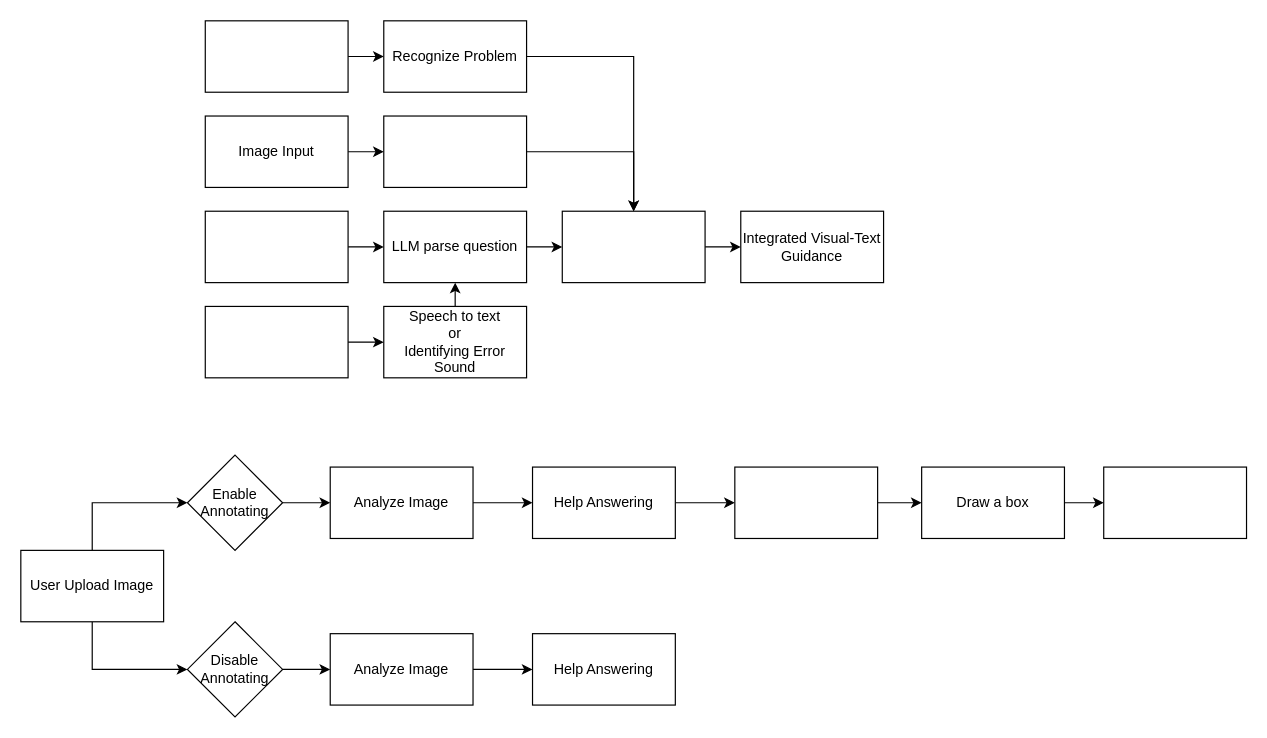
Some shapes in this 1267 by 738 pixel diagram are drawn without their labels. The shapes that lost their labels are listed below. From the top down, each one's box as (x1, y1, x2, y2) in pixels, then its label:
(204, 20, 348, 92): Video I nput
(383, 115, 527, 187): Visual Product Identification
(204, 210, 348, 283): Text Input
(561, 210, 705, 283): RAG find solution
(204, 305, 348, 378): Voice Input
(734, 466, 878, 538): AI Annotating/ Object Detection
(1103, 466, 1247, 538): Return Annotated File
